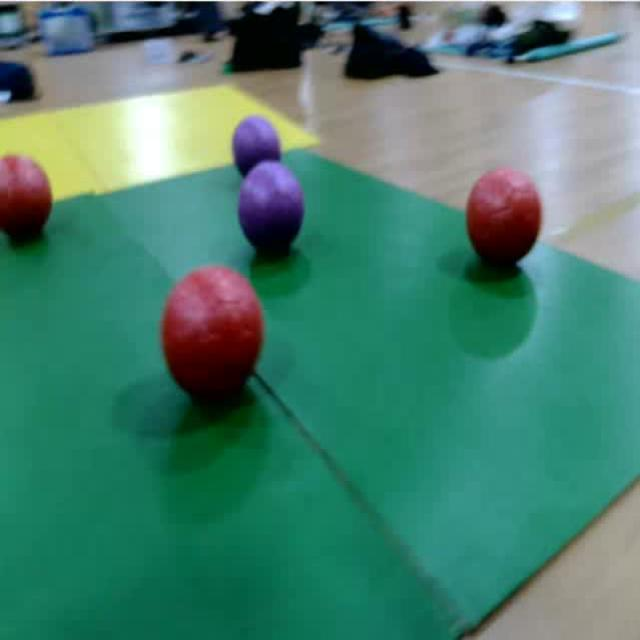purple_ball: (235, 162, 307, 258), (232, 113, 283, 182)
red_ball: (159, 265, 265, 402), (463, 163, 542, 273), (0, 152, 52, 240)
